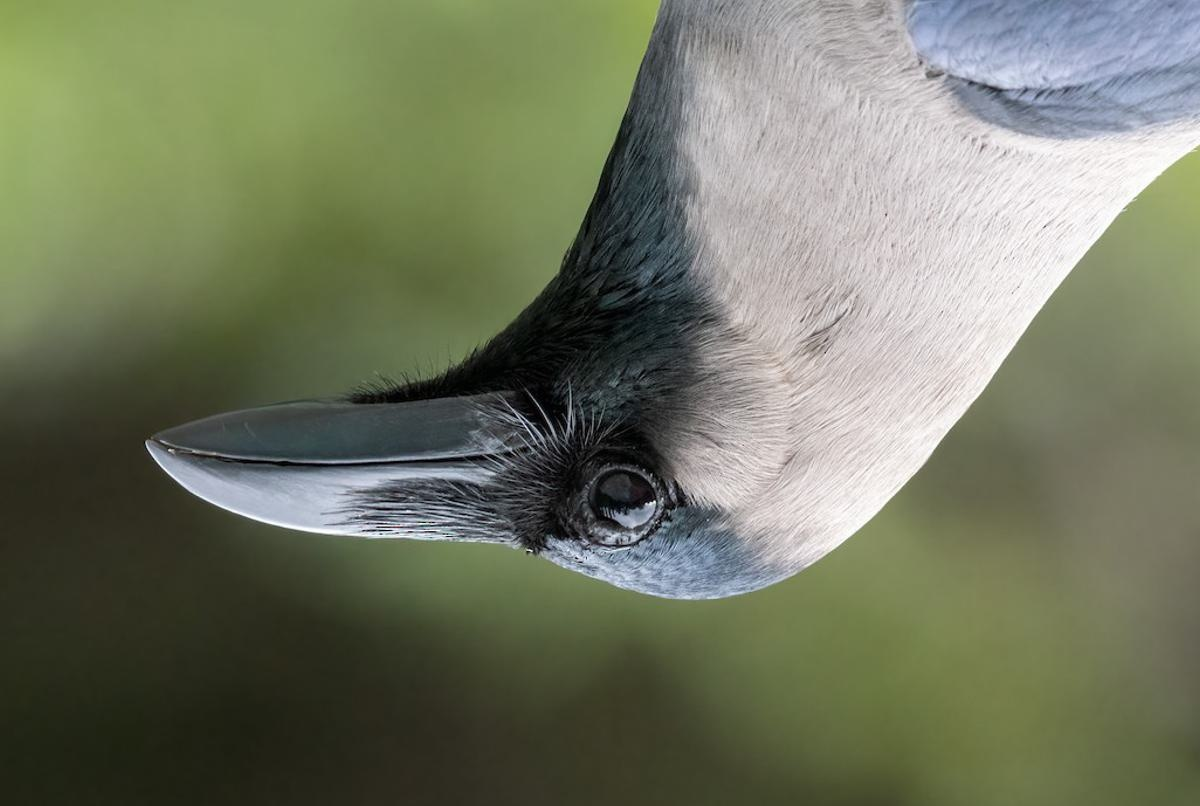crow: (143, 1, 1184, 610)
